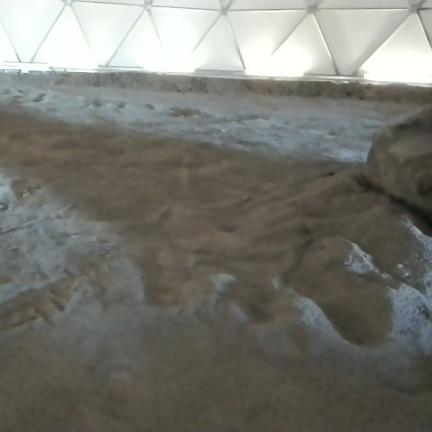Rock: (366, 107, 431, 224)
